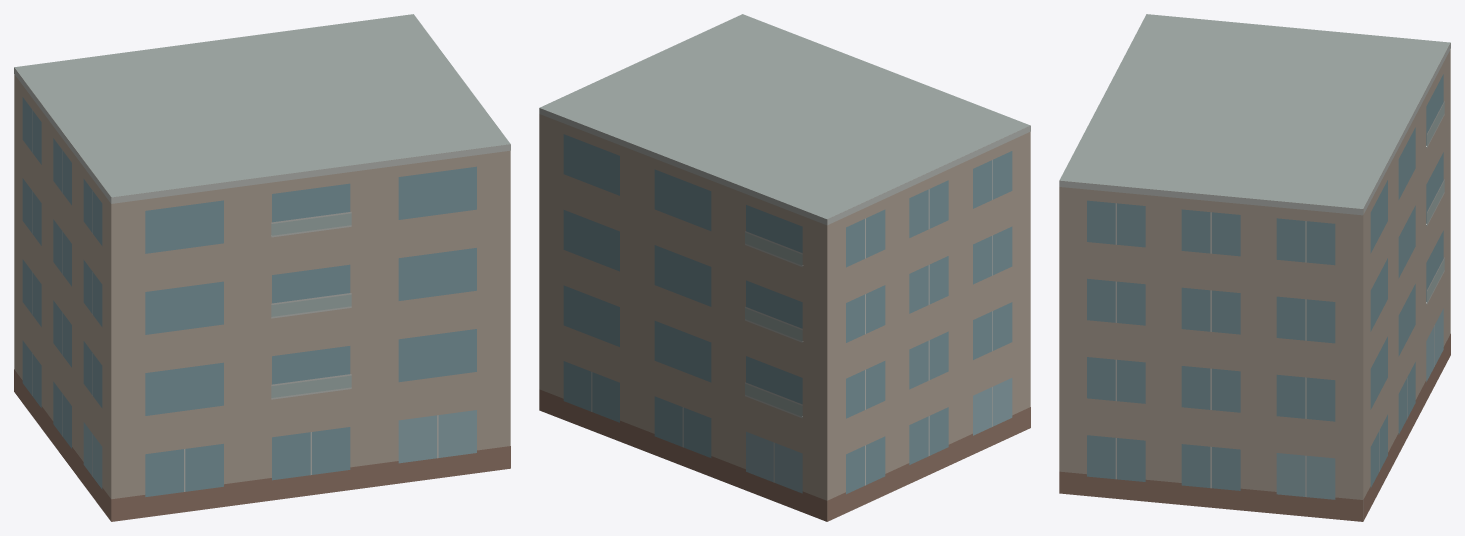
File: residential-6cb6e672-9558-45c6-ae4d-990ed5a1e97f.glb
3 views of the same model, side by side, from view 1: azimuth 30°, elevation 25°; view 2: azimuth 150°, elevation 25°; view 3: azimuth 270°, elevation 25° (orthographic). The views are drawn at different scales.
Visible parts, largest first — view 1: residential-6cb6e672-9558-45c6-ae4d-990ed5a1e97f.tmp; view 2: residential-6cb6e672-9558-45c6-ae4d-990ed5a1e97f.tmp; view 3: residential-6cb6e672-9558-45c6-ae4d-990ed5a1e97f.tmp.
Part boxes in pixels (bbox=[...]): residential-6cb6e672-9558-45c6-ae4d-990ed5a1e97f.tmp: bbox=[14, 14, 510, 521]; residential-6cb6e672-9558-45c6-ae4d-990ed5a1e97f.tmp: bbox=[539, 14, 1030, 521]; residential-6cb6e672-9558-45c6-ae4d-990ed5a1e97f.tmp: bbox=[1059, 14, 1450, 521].
Bounding box in the file's own units: 16.33 × 12.2 × 13.85.
